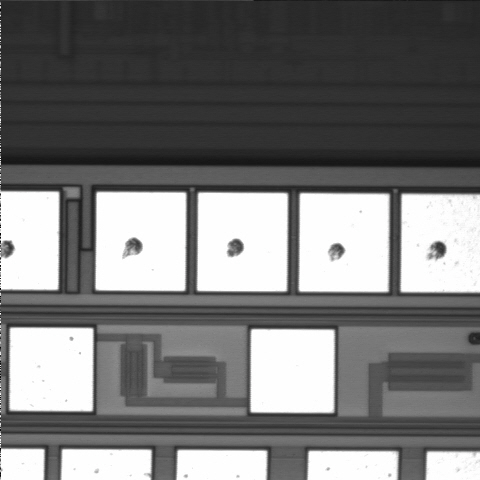pad: (197, 193, 288, 291), (96, 192, 186, 291), (299, 193, 389, 292), (251, 329, 334, 413), (10, 328, 93, 411)
